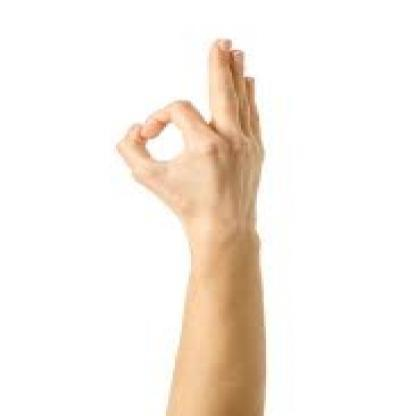ok: (102, 34, 288, 231)
